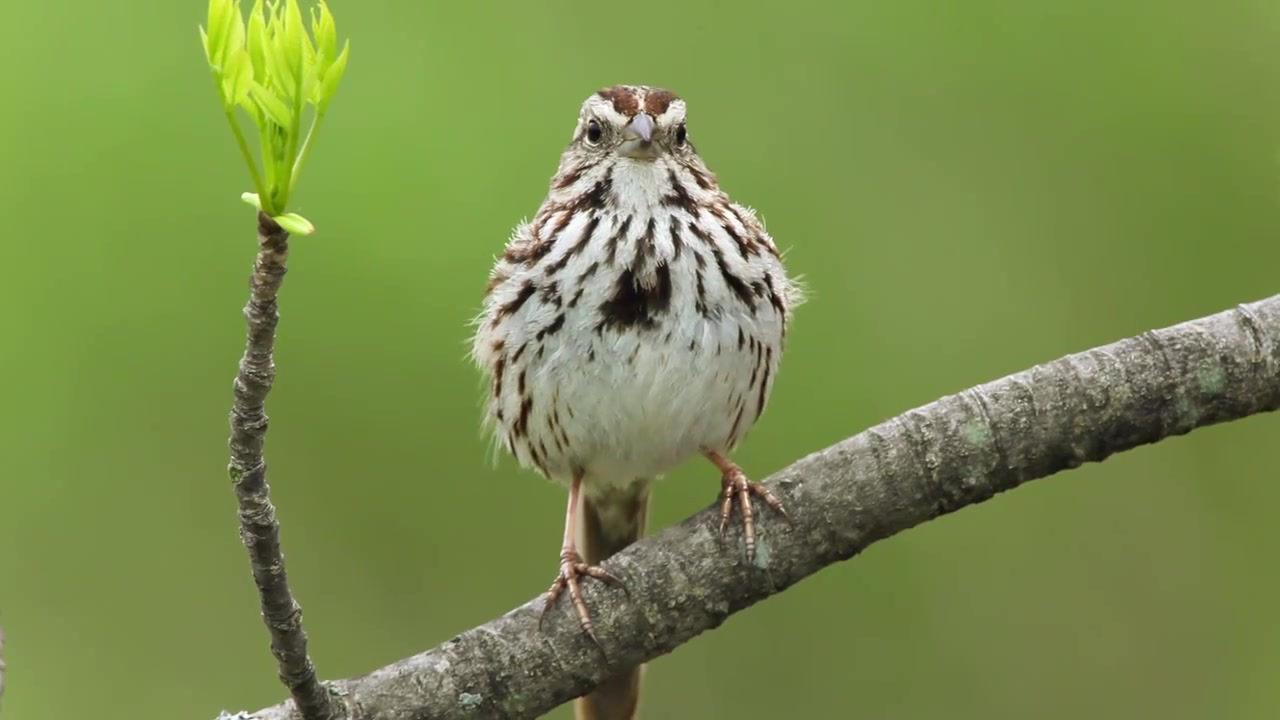bird: (463, 73, 811, 720)
